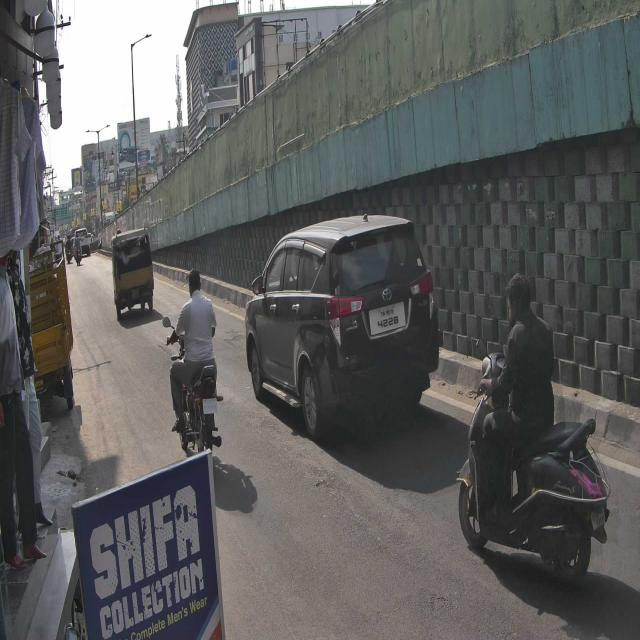single_rider: (455, 271, 614, 590), (163, 267, 224, 465)
